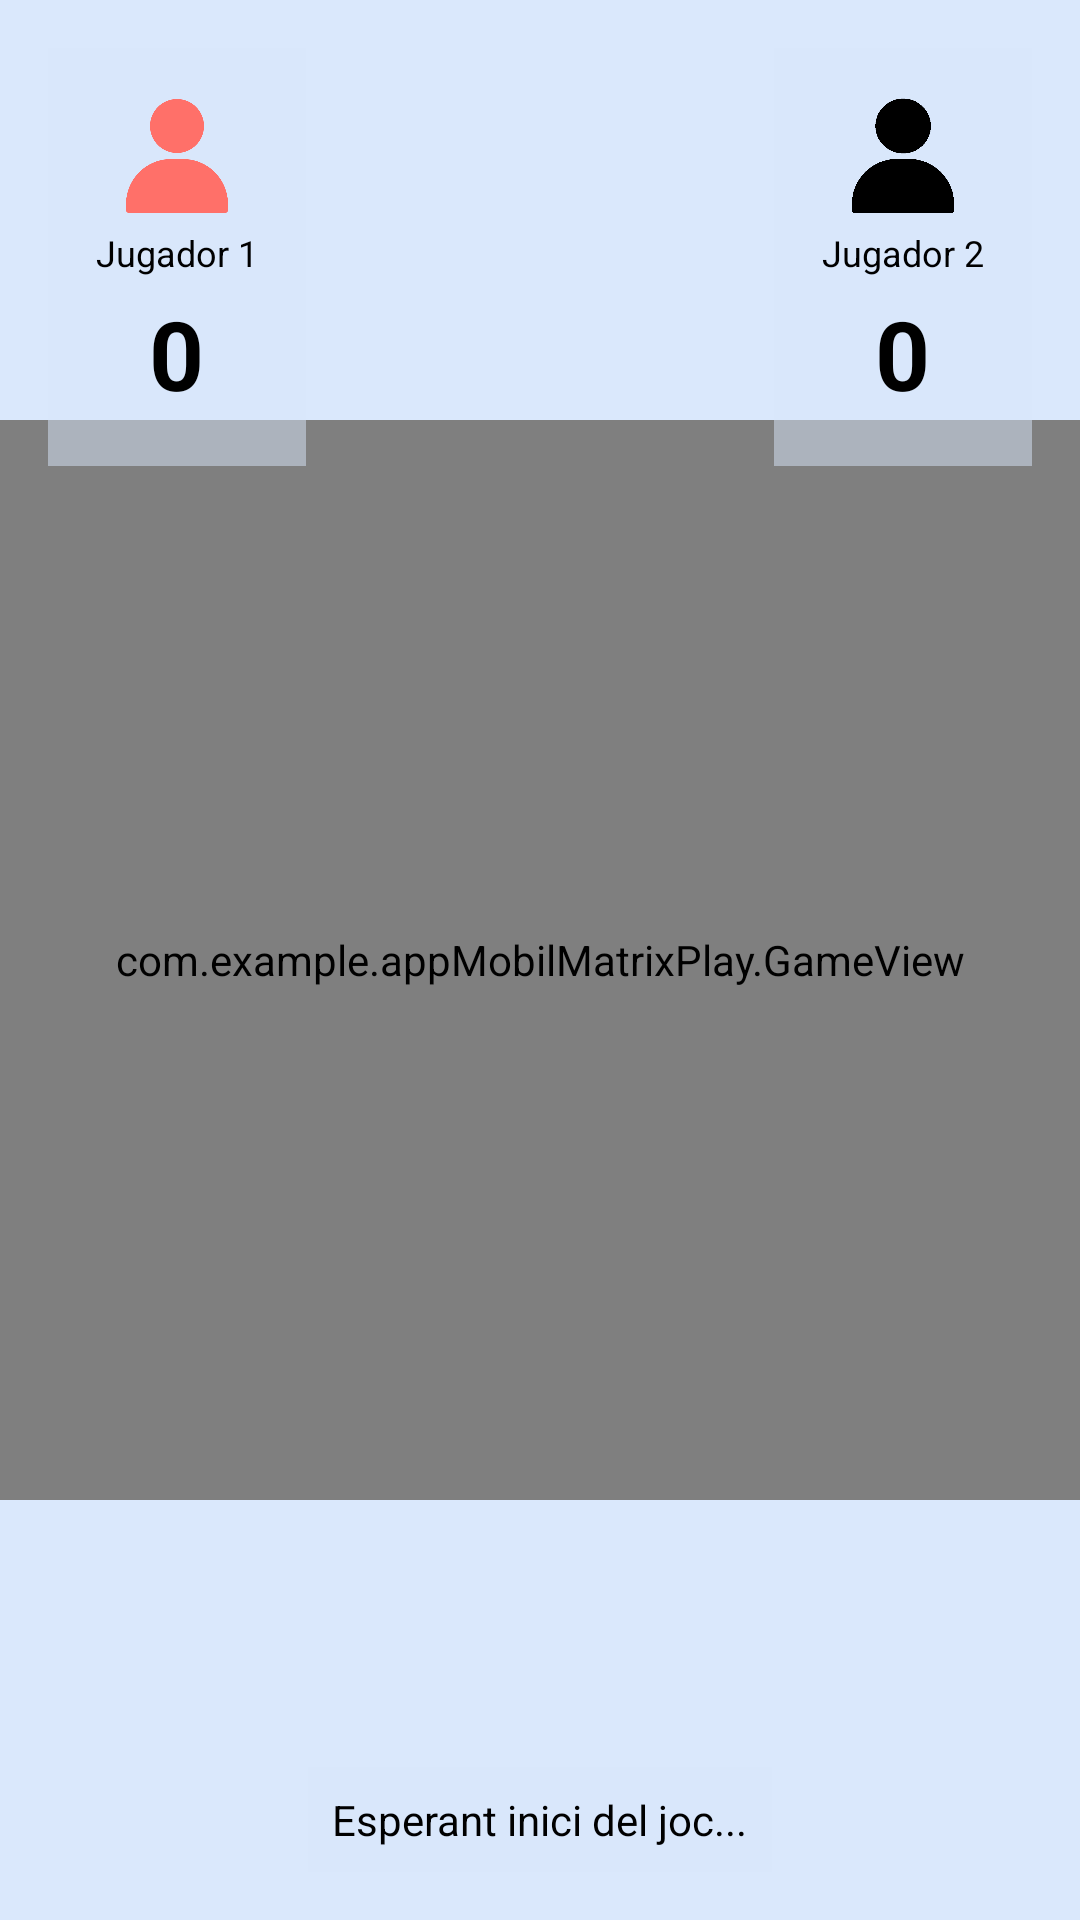

Locate icon controls on the screen. Image size 1080 × 1920, boxes as box=[x1, y1, x2, y2].
Jugador Dret: box=[852, 98, 954, 213]
Jugador Esquerre: box=[126, 99, 228, 213]
